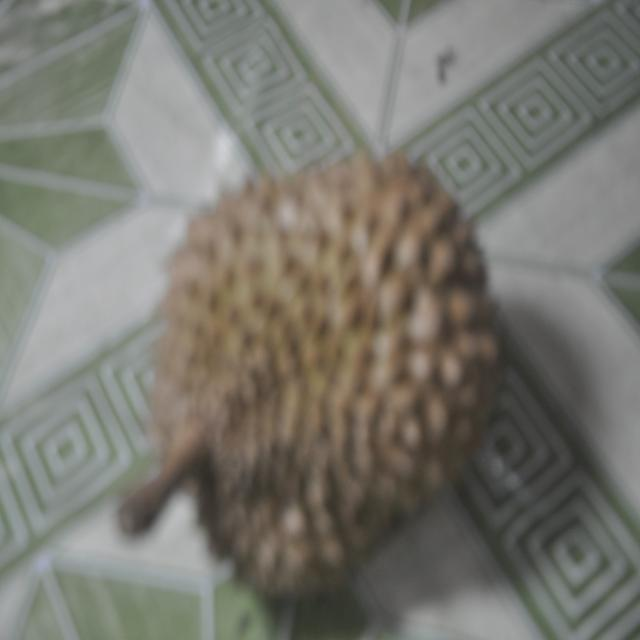mature: (86, 152, 512, 597)
